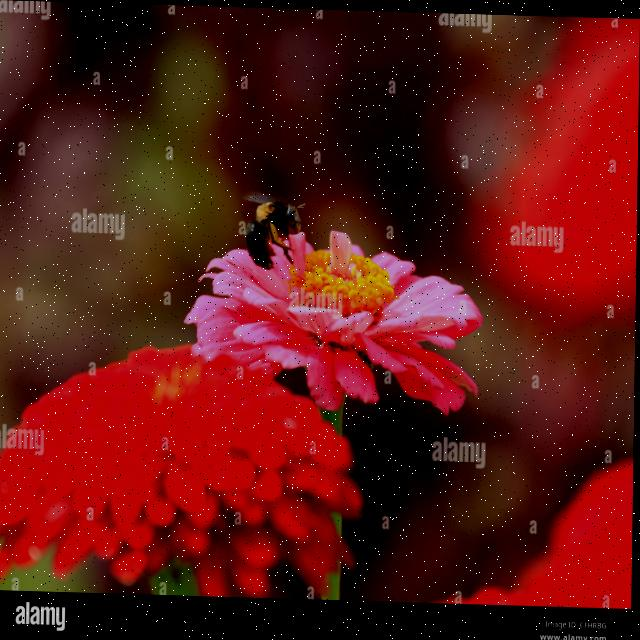Apis-mellifera-scutellata: (235, 178, 324, 274)
